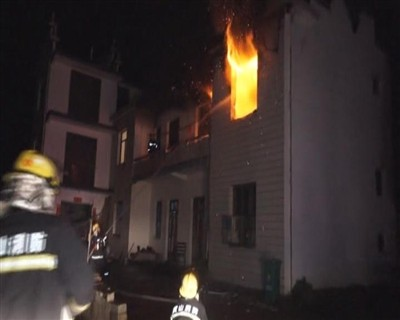fire: (222, 15, 262, 113)
